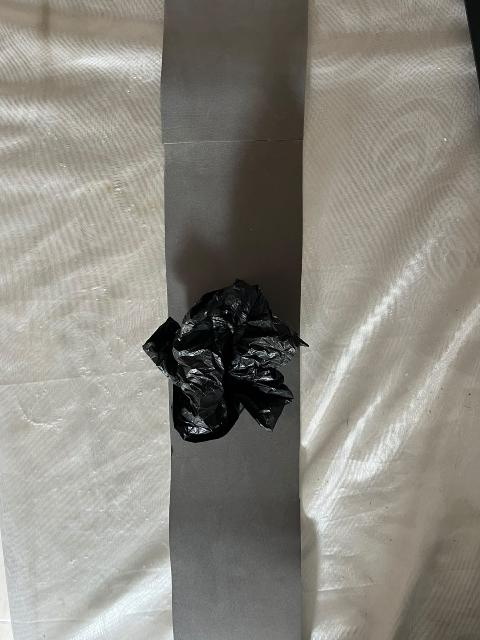LDPE: (95, 223, 375, 545)
